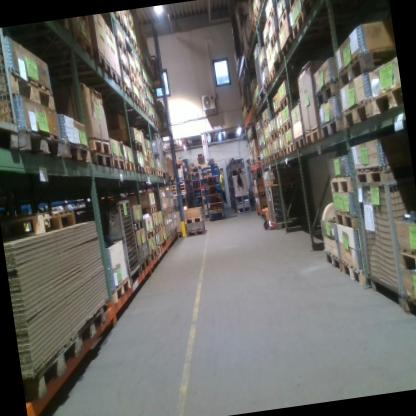pallet: (18, 335, 85, 402), (7, 202, 81, 243), (10, 117, 67, 169), (5, 61, 59, 114), (334, 45, 399, 86), (74, 299, 114, 354), (351, 156, 414, 190), (339, 94, 378, 132), (369, 80, 404, 117), (58, 133, 90, 168), (71, 19, 97, 62), (312, 75, 343, 110), (287, 9, 316, 43), (341, 257, 369, 291), (318, 114, 348, 142), (94, 42, 113, 86), (325, 170, 356, 196), (108, 274, 133, 306), (396, 244, 416, 282), (333, 206, 361, 233), (401, 287, 416, 335), (87, 148, 114, 174), (85, 132, 112, 155), (277, 32, 296, 62), (321, 245, 341, 273), (109, 62, 124, 96), (304, 125, 323, 151), (265, 5, 283, 31), (277, 91, 298, 112), (274, 6, 290, 30), (46, 19, 67, 37), (267, 28, 281, 54), (139, 200, 158, 218), (263, 177, 291, 189), (121, 18, 133, 45), (138, 252, 152, 275), (111, 154, 126, 175), (118, 56, 131, 80), (106, 10, 123, 28), (126, 11, 138, 36), (272, 52, 285, 75), (122, 78, 134, 102), (183, 211, 205, 224), (281, 116, 295, 136), (250, 0, 261, 25), (124, 155, 137, 176), (123, 139, 144, 152), (155, 238, 168, 258), (126, 70, 139, 90), (185, 226, 206, 238), (116, 37, 128, 58), (262, 74, 274, 94), (294, 134, 307, 152), (126, 60, 138, 79), (130, 216, 144, 232), (129, 33, 139, 54), (131, 91, 142, 110), (143, 226, 156, 242), (134, 159, 146, 176), (258, 58, 270, 75), (286, 140, 298, 156), (262, 33, 272, 52), (147, 248, 159, 263), (136, 46, 145, 66), (163, 231, 174, 247), (250, 18, 259, 37), (268, 128, 278, 144), (262, 118, 275, 130), (268, 66, 276, 85), (146, 106, 154, 124), (288, 0, 304, 9), (145, 147, 155, 161), (245, 101, 254, 116), (272, 148, 281, 162), (276, 124, 285, 138), (143, 163, 151, 178), (138, 82, 146, 97), (263, 136, 273, 148), (156, 166, 165, 179), (247, 35, 254, 51), (243, 44, 250, 60), (153, 223, 161, 236), (141, 100, 147, 117), (159, 206, 169, 216), (158, 219, 165, 233), (280, 145, 287, 159), (171, 226, 179, 238), (252, 101, 258, 117), (167, 204, 176, 214), (253, 156, 262, 166), (255, 95, 261, 110), (249, 134, 259, 142), (253, 190, 266, 196), (242, 110, 248, 122), (259, 158, 266, 168), (256, 128, 264, 136), (252, 145, 260, 153), (257, 143, 264, 152), (258, 0, 270, 5), (150, 166, 155, 177), (265, 155, 270, 166), (247, 147, 253, 156), (269, 153, 275, 161), (249, 160, 255, 167), (246, 136, 250, 142)
pallet_truck: (251, 168, 275, 232)
stillage: (354, 170, 416, 317), (99, 198, 142, 291), (0, 27, 24, 159), (266, 181, 309, 229), (151, 131, 167, 180), (263, 184, 272, 222)
